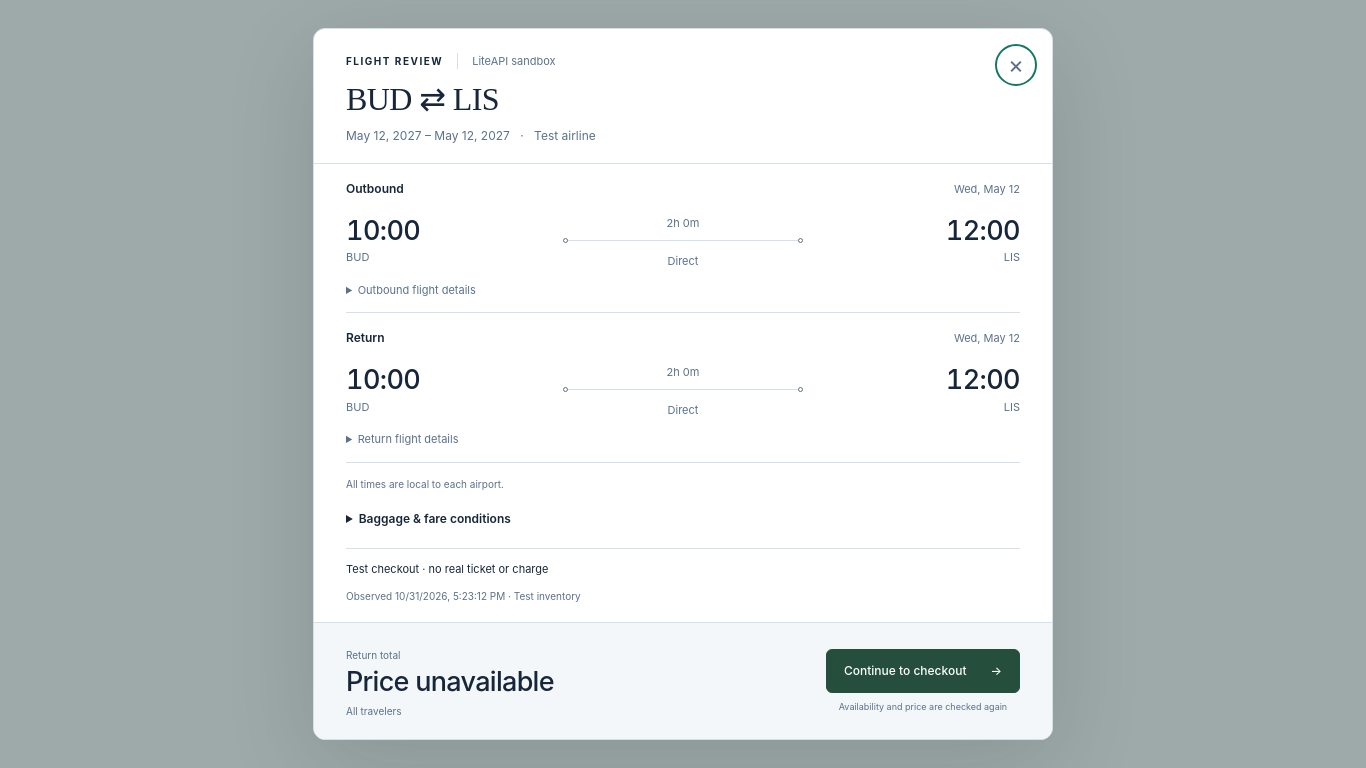
Scenario: checkout rechecks expiry even before its background timer can run
What coordinates should you click on to do the following:
click the button with aria-label "Continue to flight checkout"
I would click on:
 (923, 671)
Its box is [826,649,1020,693].
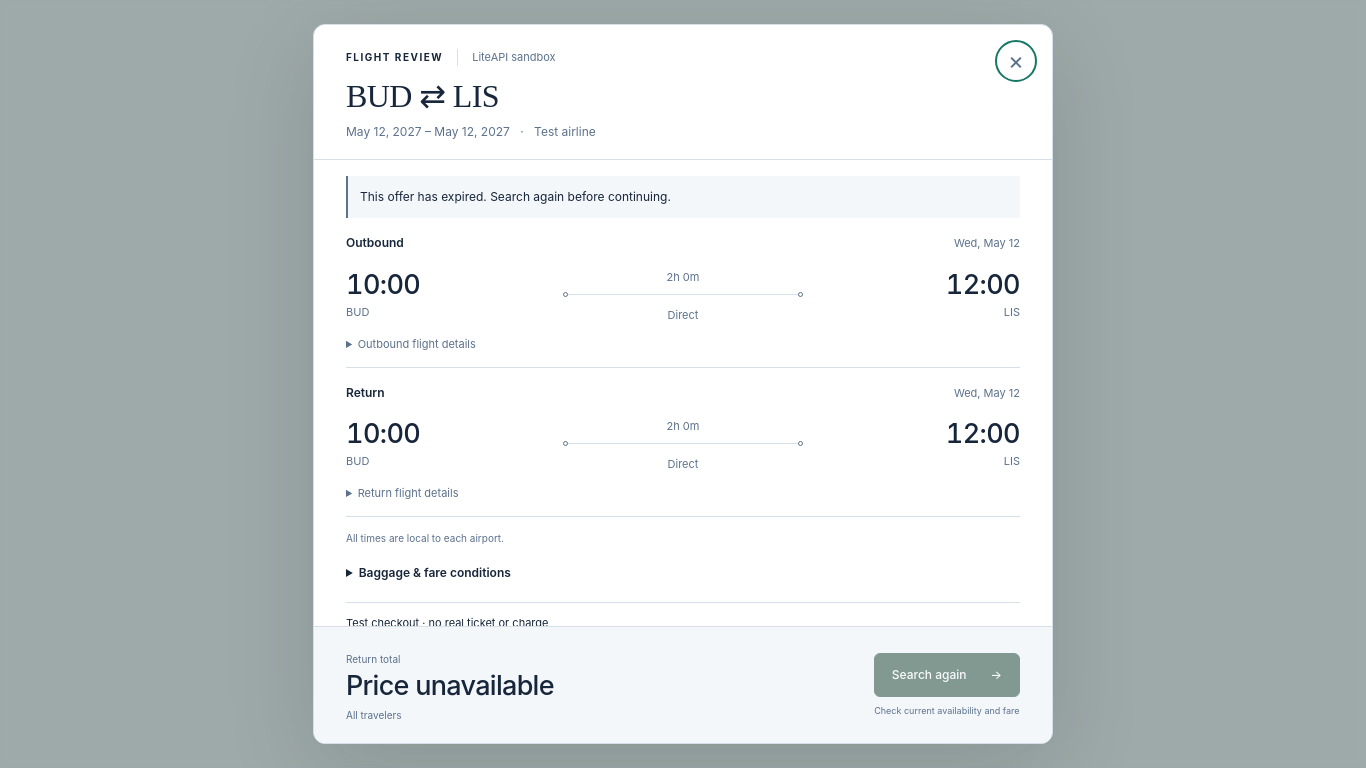
Result: the text "This offer has expired. Search again before continuing." is shown at [346,176,1020,218]
